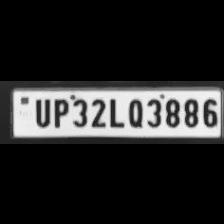2: (88, 94, 106, 128)
3: (68, 94, 88, 126), (144, 94, 162, 128)
6: (200, 94, 218, 128)
8: (162, 95, 180, 127), (181, 95, 199, 127)
L: (105, 94, 123, 126)
P: (50, 96, 68, 127)
Q: (124, 96, 144, 127)
U: (32, 96, 50, 127)
